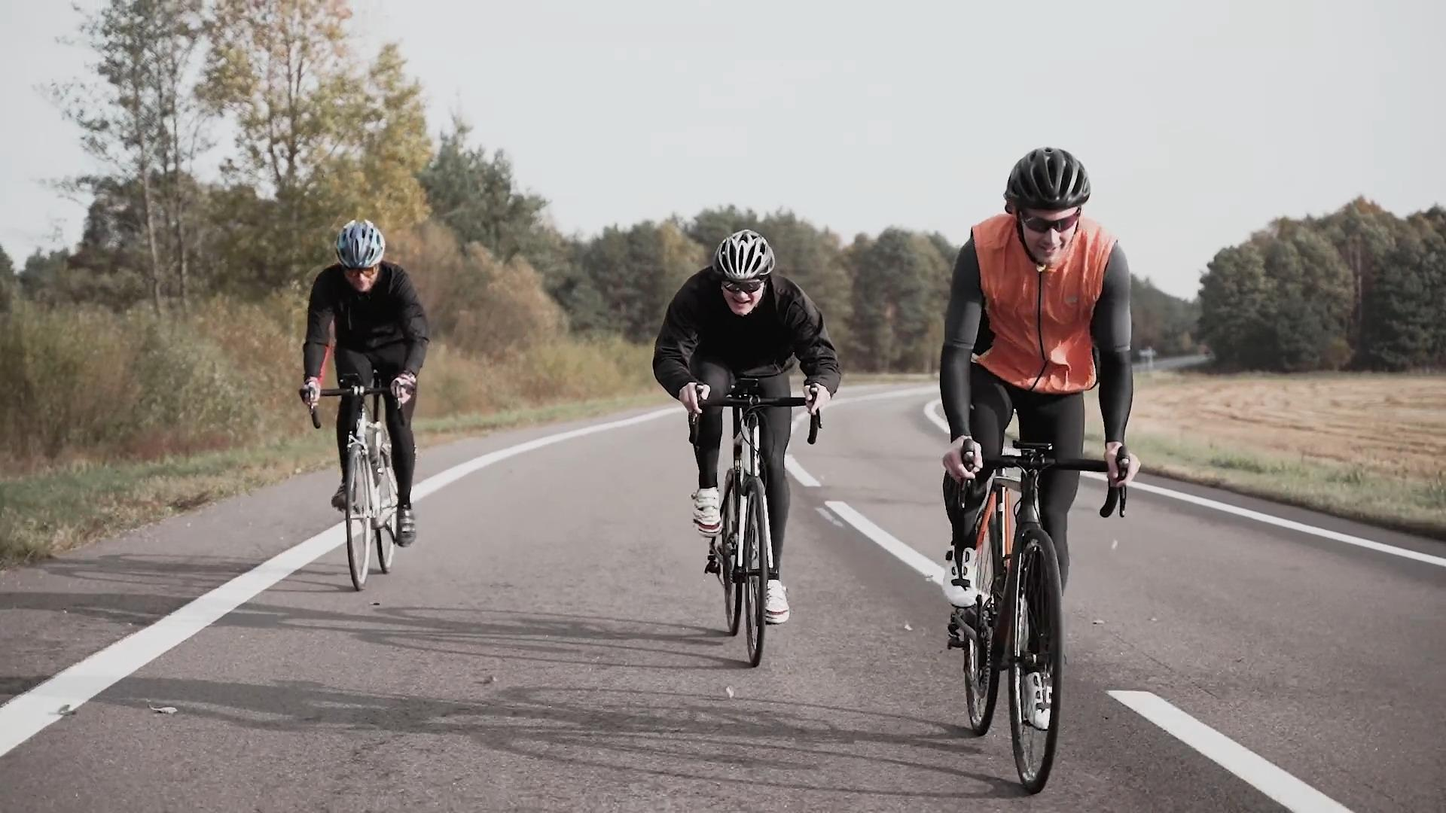bicyclist: (938, 144, 1142, 796), (654, 228, 843, 668), (299, 217, 431, 594)
helmet: (1001, 145, 1090, 268), (711, 227, 776, 317), (334, 216, 387, 294)
